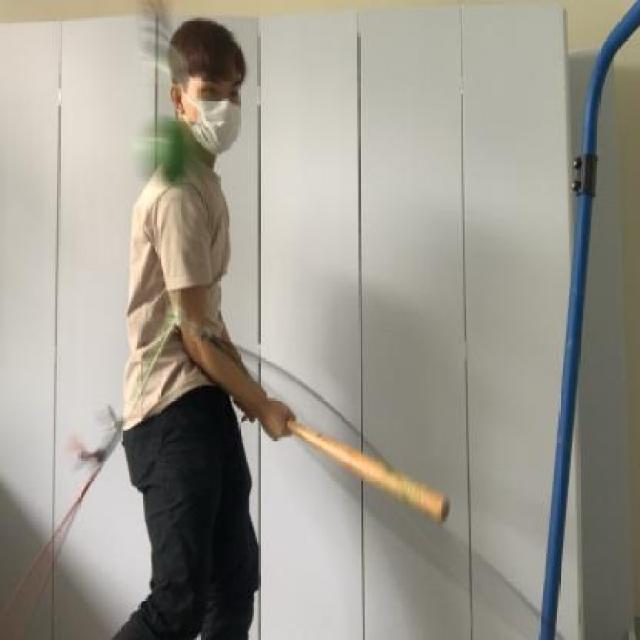baseball: (125, 104, 197, 196)
